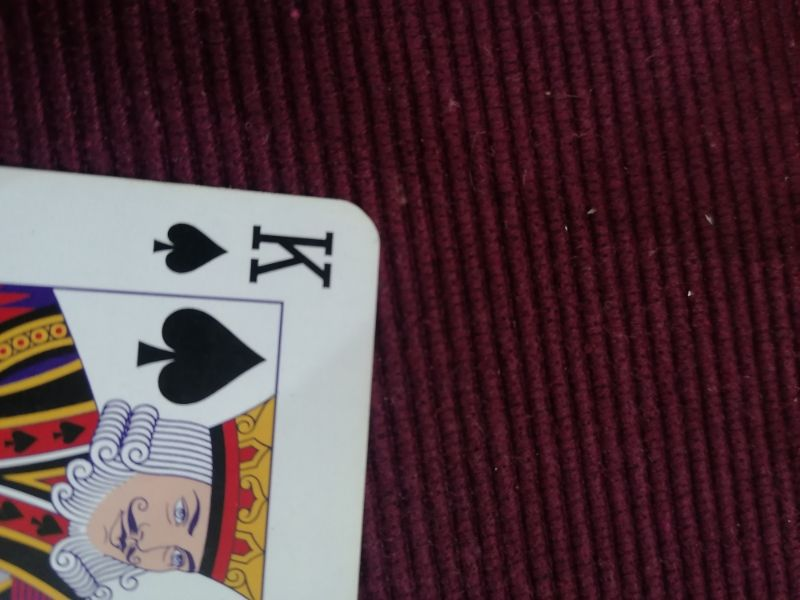Ks: (148, 213, 338, 293)
